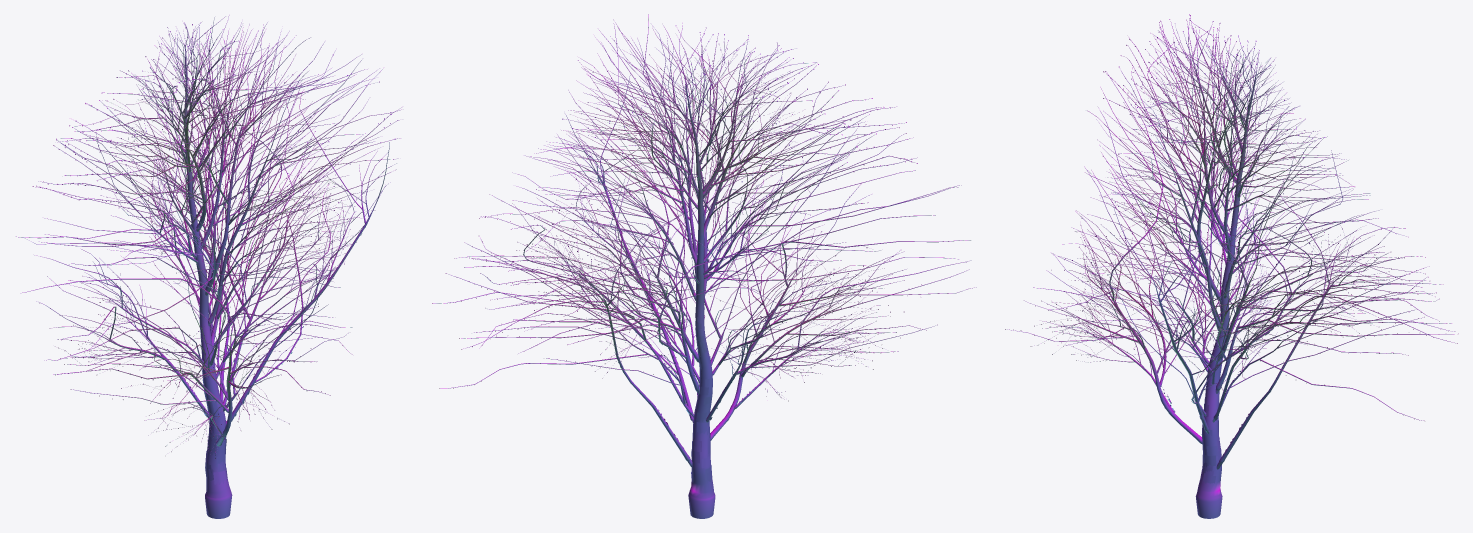
Rendered from tree_silver_birch_s1_a60.fbx.
The picture shows the model from 3 angles, left to right: view 1: azimuth 30°, elevation 25°; view 2: azimuth 150°, elevation 25°; view 3: azimuth 270°, elevation 25°; orthographic projection. The views are drawn at different scales.
Parts seen in each view (by area): view 1: tree_silver_birch_s1_a60_branches, tree_silver_birch_s1_a60_marks, tree_silver_birch_s1_a60_leaves; view 2: tree_silver_birch_s1_a60_branches, tree_silver_birch_s1_a60_marks, tree_silver_birch_s1_a60_leaves; view 3: tree_silver_birch_s1_a60_branches, tree_silver_birch_s1_a60_leaves, tree_silver_birch_s1_a60_marks.
Boxes of the visible parts, x1,y1,x2,y2 form: tree_silver_birch_s1_a60_branches: [16, 15, 401, 518]; tree_silver_birch_s1_a60_marks: [114, 62, 365, 484]; tree_silver_birch_s1_a60_leaves: [32, 22, 397, 458]; tree_silver_birch_s1_a60_branches: [433, 14, 976, 518]; tree_silver_birch_s1_a60_marks: [606, 101, 807, 482]; tree_silver_birch_s1_a60_leaves: [432, 25, 966, 401]; tree_silver_birch_s1_a60_branches: [1007, 15, 1455, 518]; tree_silver_birch_s1_a60_leaves: [1005, 14, 1458, 419]; tree_silver_birch_s1_a60_marks: [1105, 87, 1325, 483].
Bounding box in the file's own units: 13.95 × 16 × 13.91.
